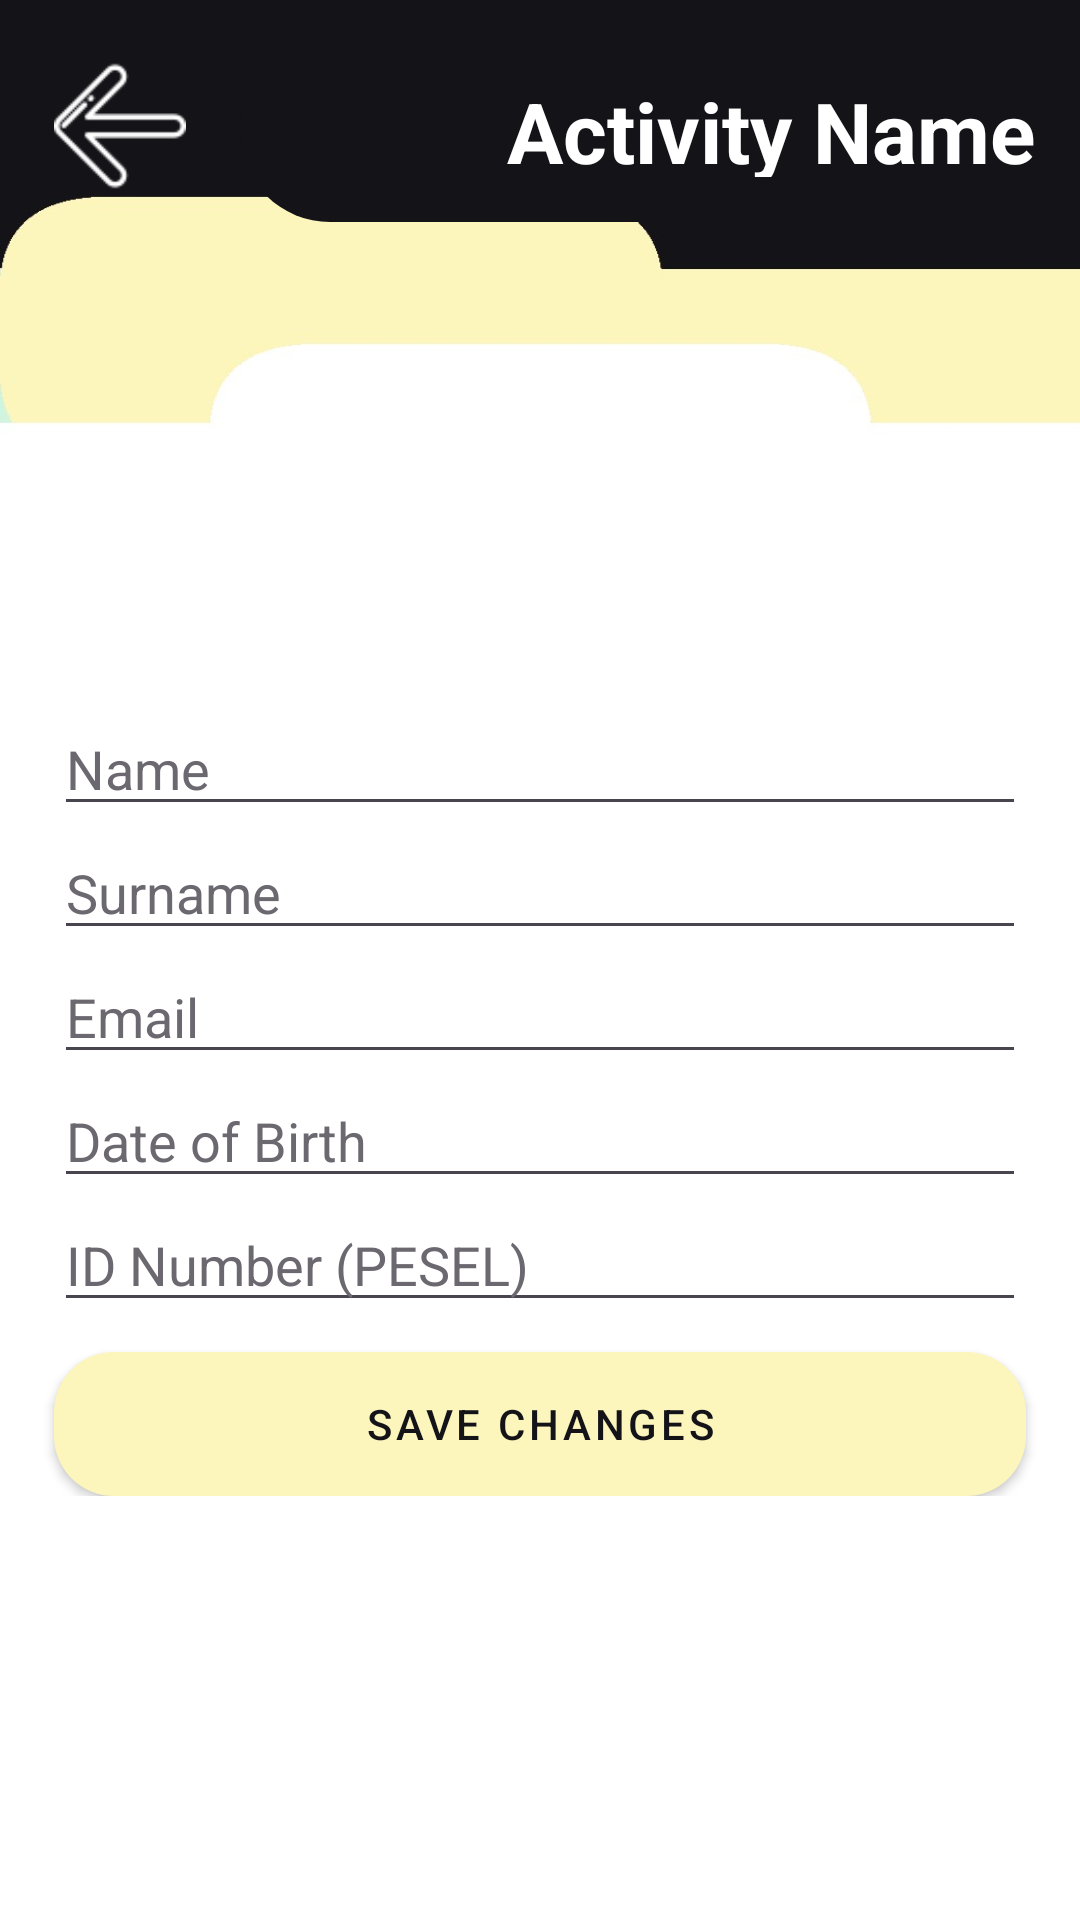

Icon click points for this 1080px x 1920px phone screenshot, format (x=x, y=y):
back: (x=132, y=142)
